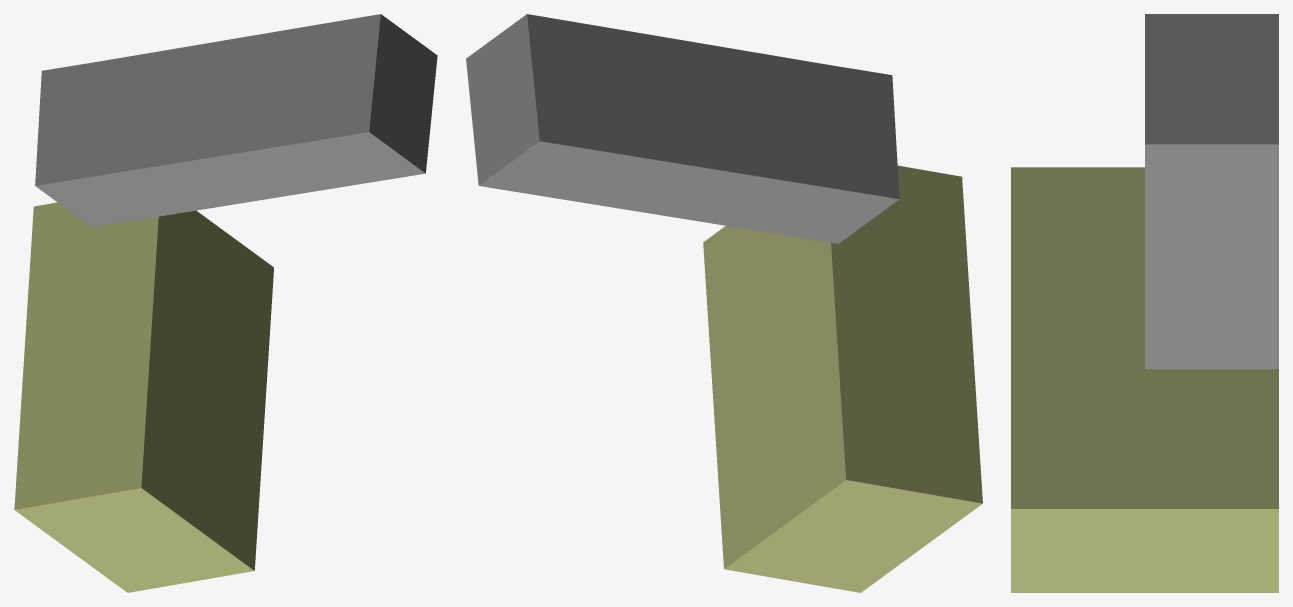
3 views of the same model, side by side, from view 1: azimuth 30°, elevation 25°; view 2: azimuth 150°, elevation 25°; view 3: azimuth 270°, elevation 25° (orthographic). The views are drawn at different scales.
Visible parts, largest first — view 1: 0_1_2_0_1_3_0_3_1_2_3; view 2: 0_1_2_0_1_3_0_3_1_2_3; view 3: 0_1_2_0_1_3_0_3_1_2_3.
Boxes of the visible parts, box(x1,y1,x2,y2) form: 0_1_2_0_1_3_0_3_1_2_3: box(14, 14, 437, 592); 0_1_2_0_1_3_0_3_1_2_3: box(466, 14, 982, 592); 0_1_2_0_1_3_0_3_1_2_3: box(1011, 14, 1278, 592).
Bounding box in the file's own units: 11.2 × 12.89 × 6.
